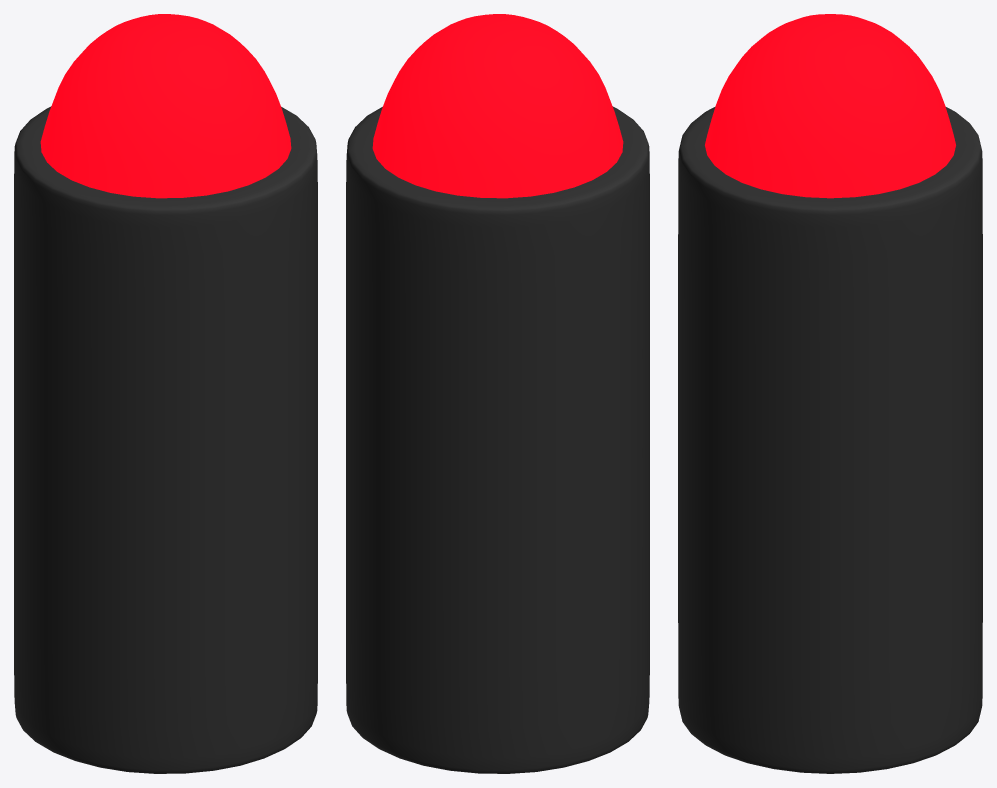
Rendered from Interruptor 1.fbx.
The picture shows the model from 3 angles, left to right: view 1: azimuth 30°, elevation 25°; view 2: azimuth 150°, elevation 25°; view 3: azimuth 270°, elevation 25°; orthographic projection.
Parts seen in each view (by area): view 1: Cylinder, Sphere; view 2: Cylinder, Sphere; view 3: Cylinder, Sphere.
Part boxes in pixels (x1,y1,x2,y2): Cylinder: (14,106,317,773); Sphere: (40,14,291,198); Cylinder: (346,106,649,773); Sphere: (372,14,623,198); Cylinder: (678,107,982,773); Sphere: (705,14,955,198).
Bounding box in the file's own units: 219 × 543 × 219.
